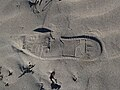human_foot_print: (17, 26, 102, 63)
